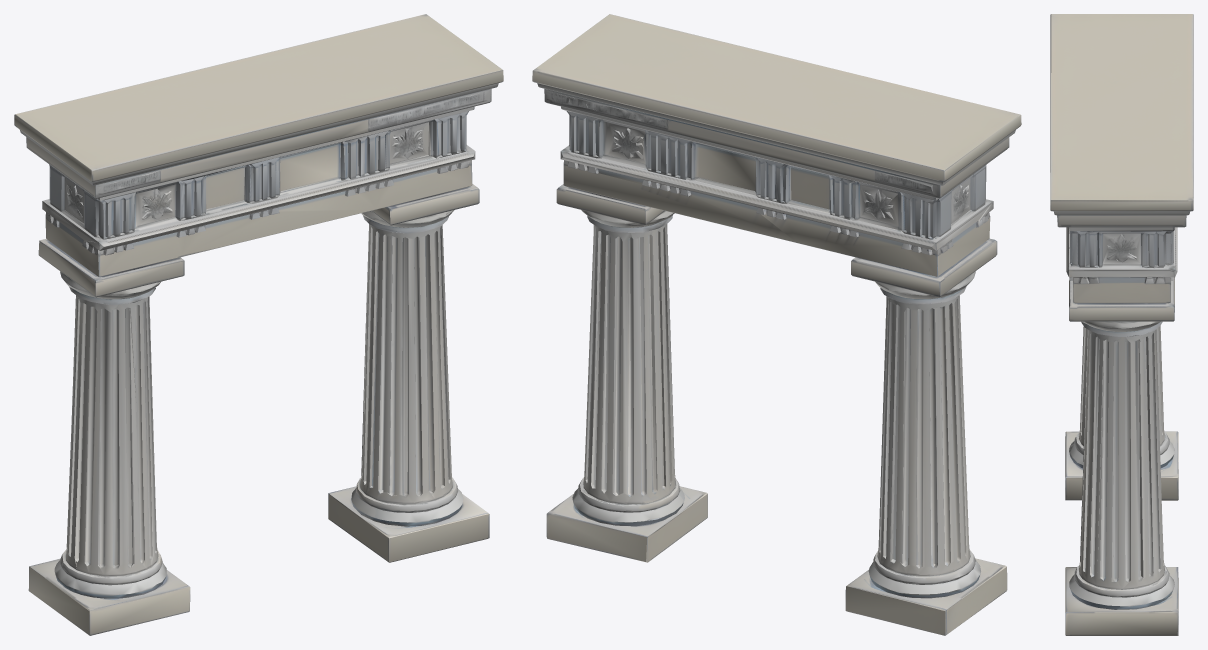
The model's file is gate.glb.
3 renders of one model, left to right at view 1: azimuth 30°, elevation 25°; view 2: azimuth 150°, elevation 25°; view 3: azimuth 270°, elevation 25°, orthographic. The views are drawn at different scales.
Visible parts, largest first — view 1: gate; view 2: gate; view 3: gate.
Boxes of the visible parts, x1,y1,x2,y2 form: gate: [14, 14, 503, 635]; gate: [532, 14, 1021, 635]; gate: [1050, 14, 1193, 635].
Bounding box in the file's own units: 6.38 × 7 × 2.07.
1 material, 1 textured.
